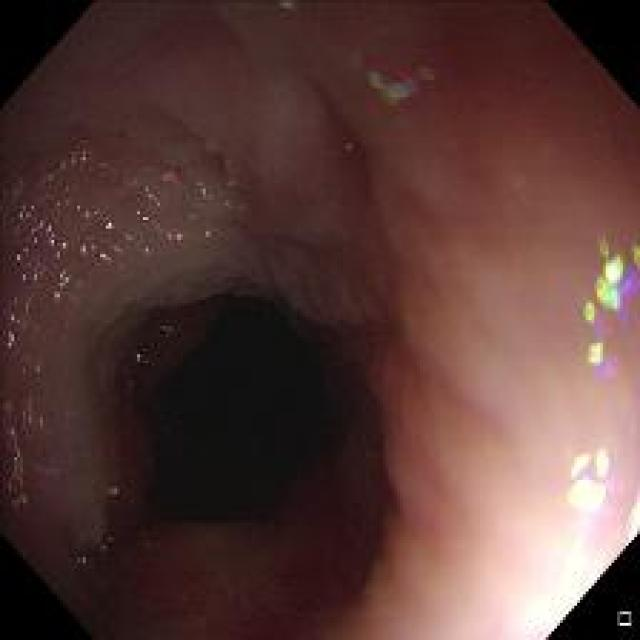color misalignment: (11, 152, 250, 304), (4, 330, 56, 525), (580, 230, 636, 384), (361, 54, 445, 109), (72, 539, 112, 568), (132, 349, 159, 374), (158, 314, 178, 344), (271, 0, 294, 16), (104, 480, 119, 496)
contrast: (100, 265, 382, 540)
saturation: (486, 308, 628, 625)
specularity: (568, 449, 609, 514), (625, 490, 639, 538), (602, 259, 619, 285), (104, 219, 112, 230)
